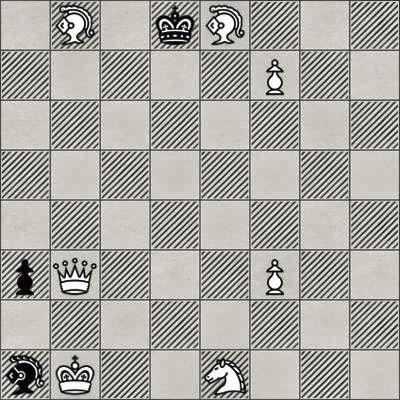black-bishop: (0, 350, 50, 400)
black-king: (150, 0, 200, 50)
black-pawn: (0, 250, 50, 300)
white-bishop: (50, 0, 100, 50), (200, 0, 250, 50)
white-king: (50, 350, 100, 400)
white-knight: (200, 350, 250, 400)
white-pawn: (250, 50, 300, 100), (250, 250, 300, 300)
white-queen: (50, 250, 100, 300)
